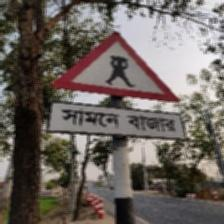Market-in-front: (46, 30, 188, 143)
